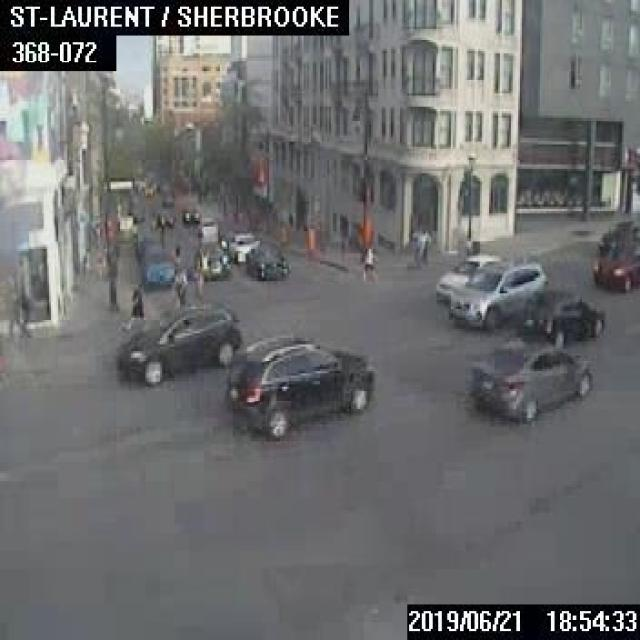construction: (304, 227, 316, 252)
pedestrian: (124, 280, 146, 329), (358, 242, 375, 284), (418, 227, 431, 260), (171, 280, 185, 309)
vehicle: (225, 336, 375, 431), (117, 299, 240, 383), (471, 338, 591, 418), (448, 258, 547, 330), (516, 287, 604, 348), (434, 252, 500, 301), (591, 239, 638, 289), (134, 240, 174, 284), (594, 218, 638, 255), (245, 242, 290, 278), (195, 242, 230, 276), (226, 230, 259, 262), (196, 216, 218, 245), (180, 204, 198, 222), (219, 229, 232, 248), (156, 211, 172, 226), (160, 192, 173, 205)
